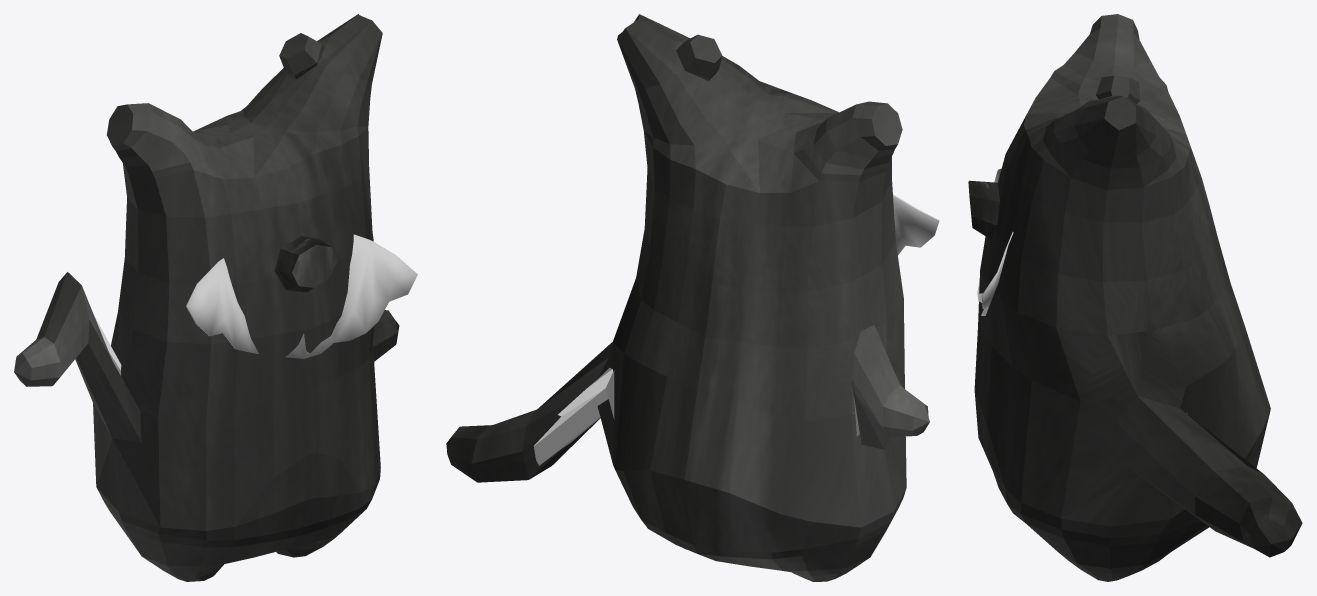
Rendered from frame_0075.obj.
3 views of the same model, side by side, from view 1: azimuth 30°, elevation 25°; view 2: azimuth 150°, elevation 25°; view 3: azimuth 270°, elevation 25° (orthographic).
Visible parts, largest first — view 1: korok, leaf, nose; view 2: korok, leaf; view 3: korok, nose, leaf.
Boxes of the visible parts, bbox=[...] form: korok: bbox=[14, 14, 399, 581]; leaf: bbox=[186, 234, 417, 358]; nose: bbox=[274, 236, 336, 292]; korok: bbox=[446, 14, 929, 581]; leaf: bbox=[893, 194, 939, 255]; korok: bbox=[974, 14, 1302, 581]; nose: bbox=[968, 180, 999, 239]; leaf: bbox=[977, 168, 1013, 315].
Bounding box in the file's own units: 1.96 × 2.24 × 1.32.
